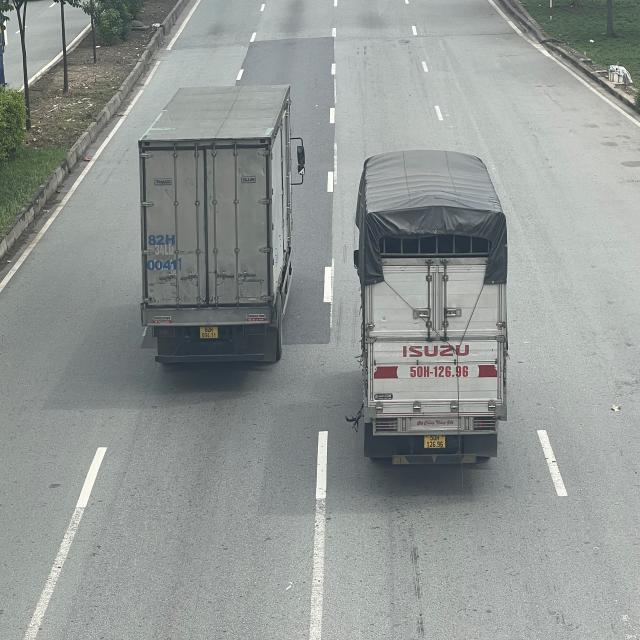truck: (354, 152, 510, 469), (140, 85, 303, 364)
